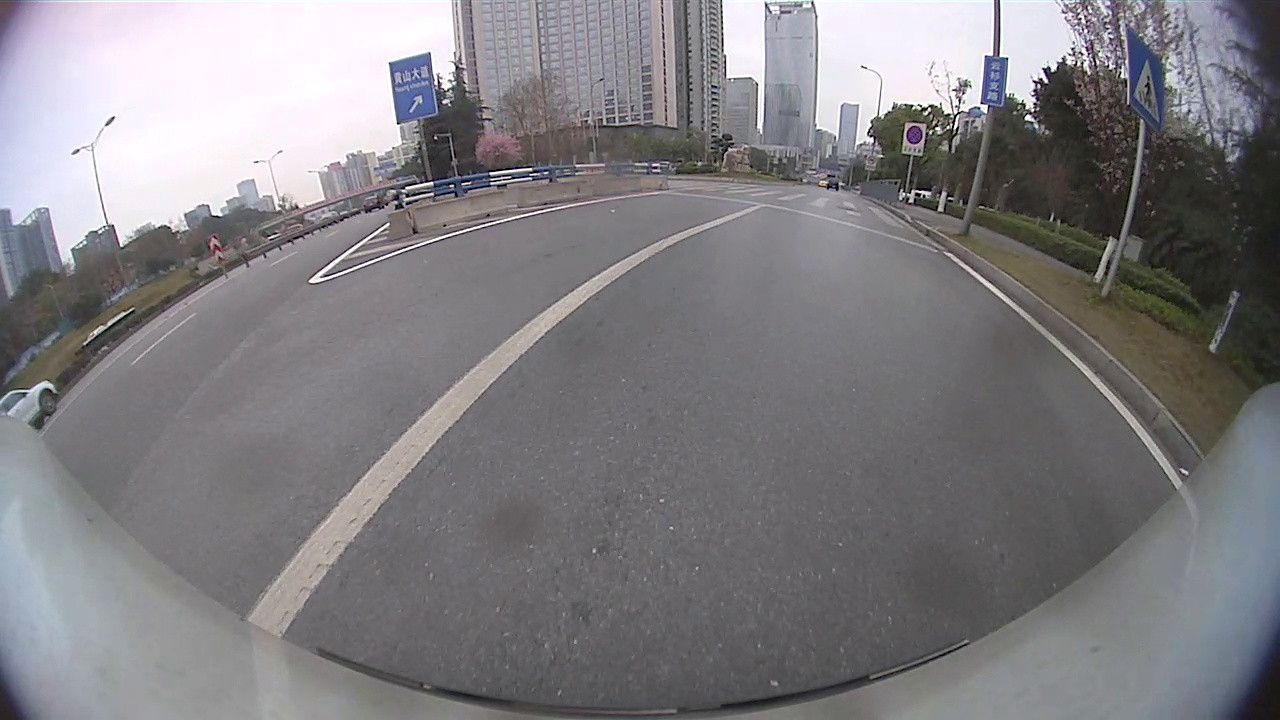car: (0, 379, 64, 430)
front: (39, 393, 57, 415)
